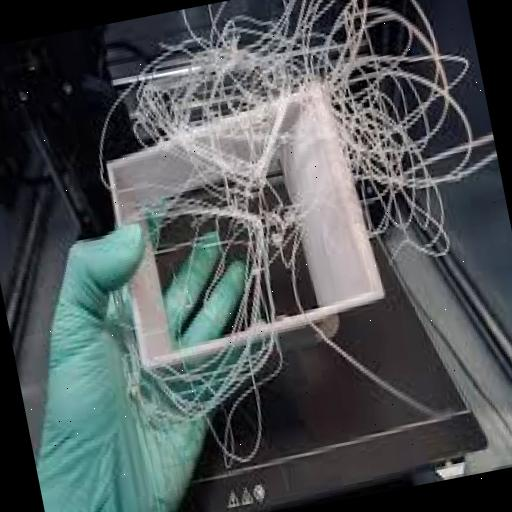spaghetti: (90, 0, 465, 289)
